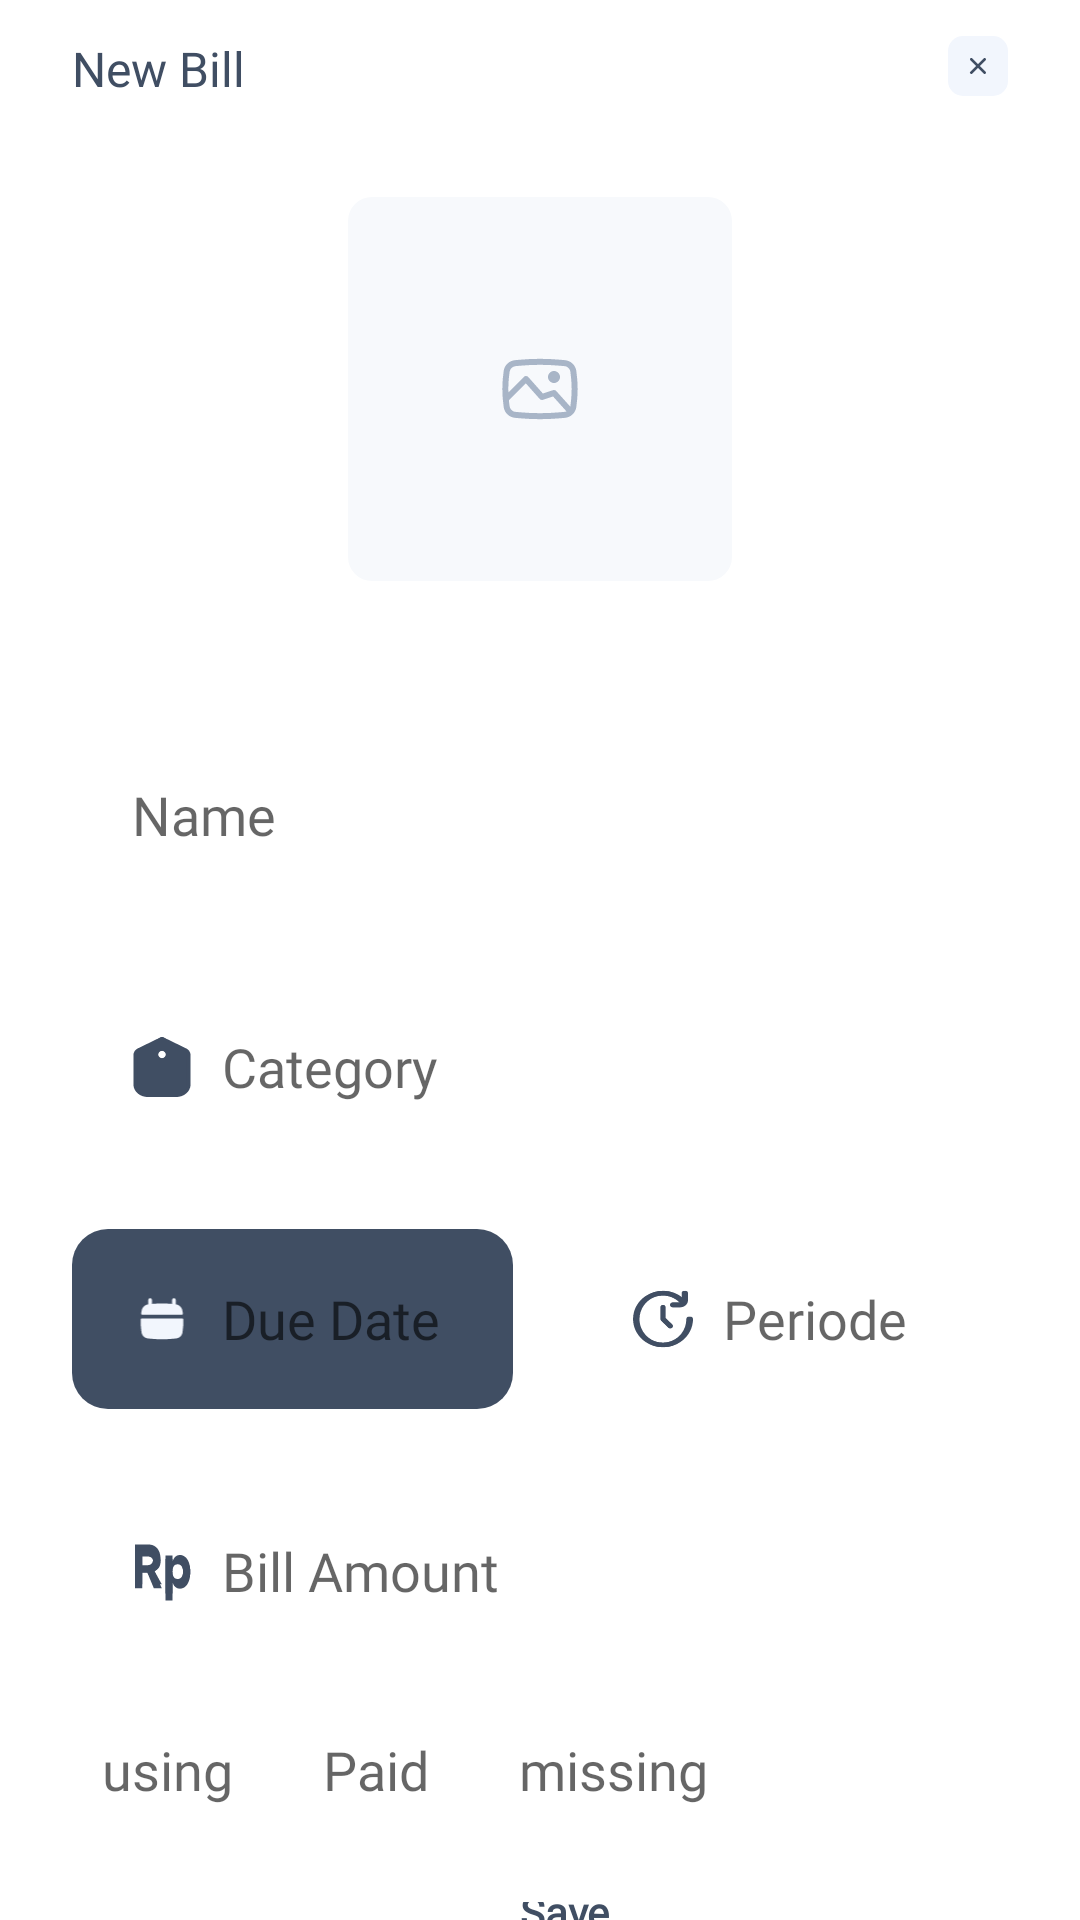

Screen size 1080 × 1920. Icon name, then its box in pixels as [x1,y1,x2,y2]:
calendar: [140,1298,184,1340]
time forward: [633,1291,693,1347]
